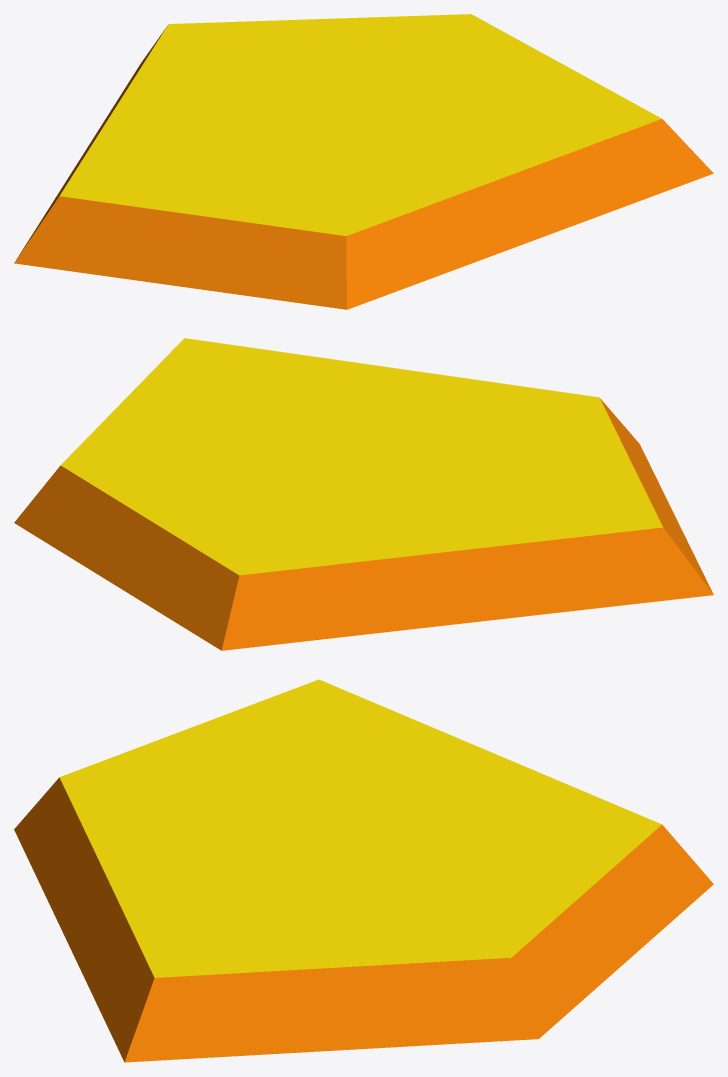
The model's file is RockFlat5.fbx.
3 views of the same model, one above another, from view 1: azimuth 30°, elevation 25°; view 2: azimuth 150°, elevation 25°; view 3: azimuth 270°, elevation 25° (orthographic). The views are drawn at different scales.
Parts seen in each view (by area): view 1: RockFlat5; view 2: RockFlat5; view 3: RockFlat5.
Part boxes in pixels (<box>): RockFlat5: <box>14,14,713,309</box>; RockFlat5: <box>14,338,713,650</box>; RockFlat5: <box>14,679,713,1062</box>.
Size of the model in its own units: 2.15 by 1.84 by 0.182.
